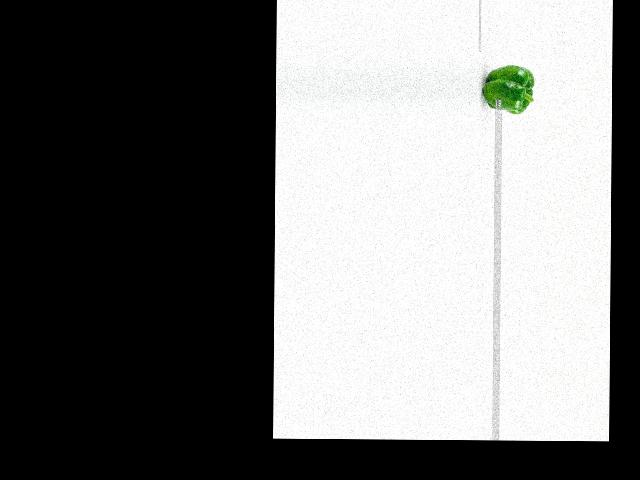bell_pepper: (480, 63, 537, 113)
